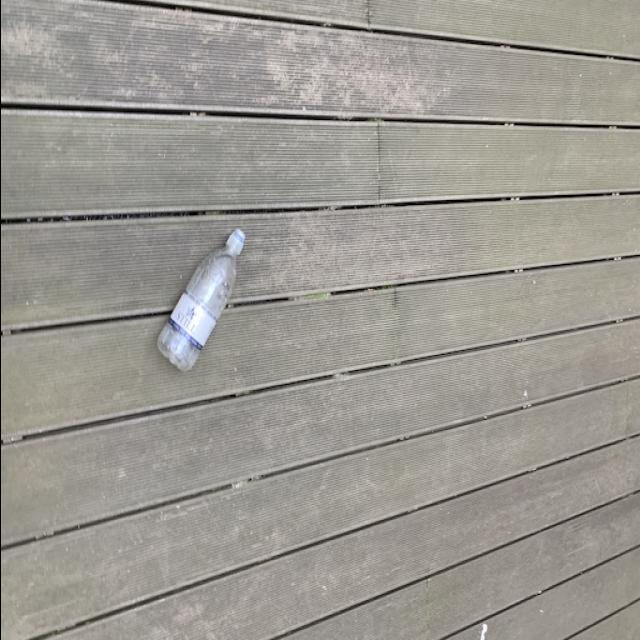PET: (154, 228, 244, 378)
